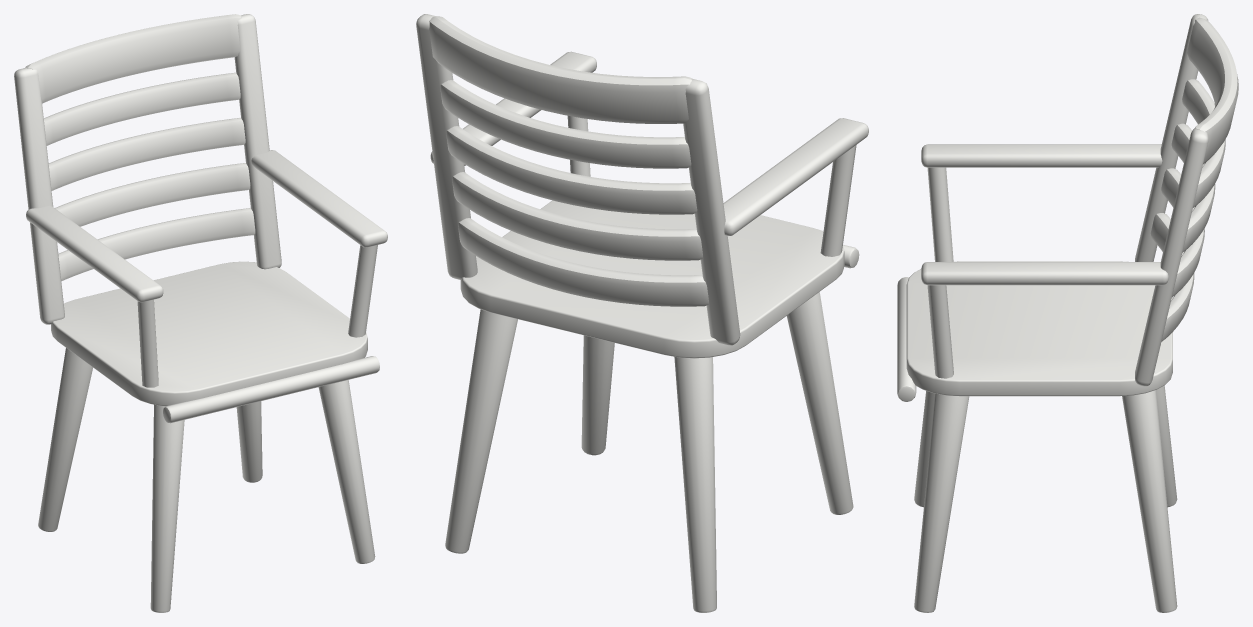
Rendered from cadeira_jardim_plastico_branca.glb.
The picture shows the model from 3 angles, left to right: view 1: azimuth 30°, elevation 25°; view 2: azimuth 150°, elevation 25°; view 3: azimuth 270°, elevation 25°; orthographic projection. The views are drawn at different scales.
Visible parts, largest first — view 1: cadeira_jardim_plastico_branca; view 2: cadeira_jardim_plastico_branca; view 3: cadeira_jardim_plastico_branca.
Boxes of the visible parts, <box> form: cadeira_jardim_plastico_branca: <box>14,14,387,612</box>; cadeira_jardim_plastico_branca: <box>416,14,868,612</box>; cadeira_jardim_plastico_branca: <box>897,14,1238,612</box>.
Size of the model in its own units: 0.525 by 0.9064 by 0.5773.
Materials: 1 (1 with a texture image).
